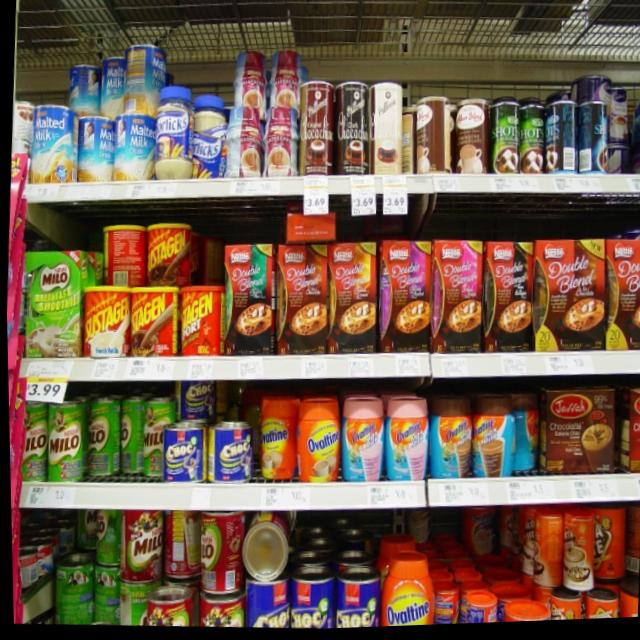q40: (136, 393, 170, 489), (85, 394, 121, 483), (44, 395, 81, 481), (17, 400, 48, 479)
